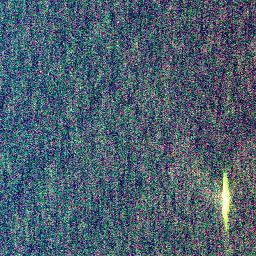Ship: (218, 173, 232, 224)
